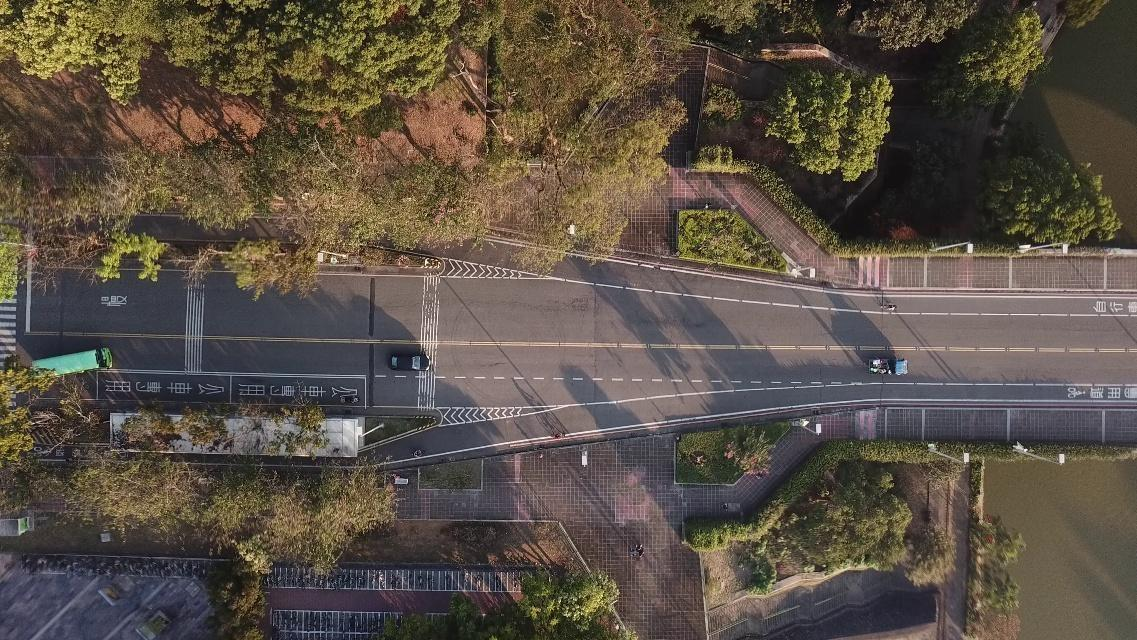Bus: (35, 346, 113, 376)
Car: (388, 353, 429, 371)
